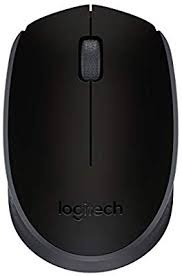mouse: (0, 0, 182, 276)
